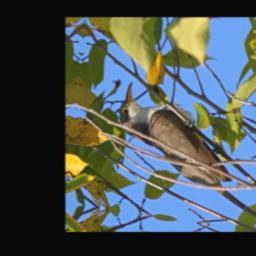Cuckoo: (113, 57, 244, 190)
